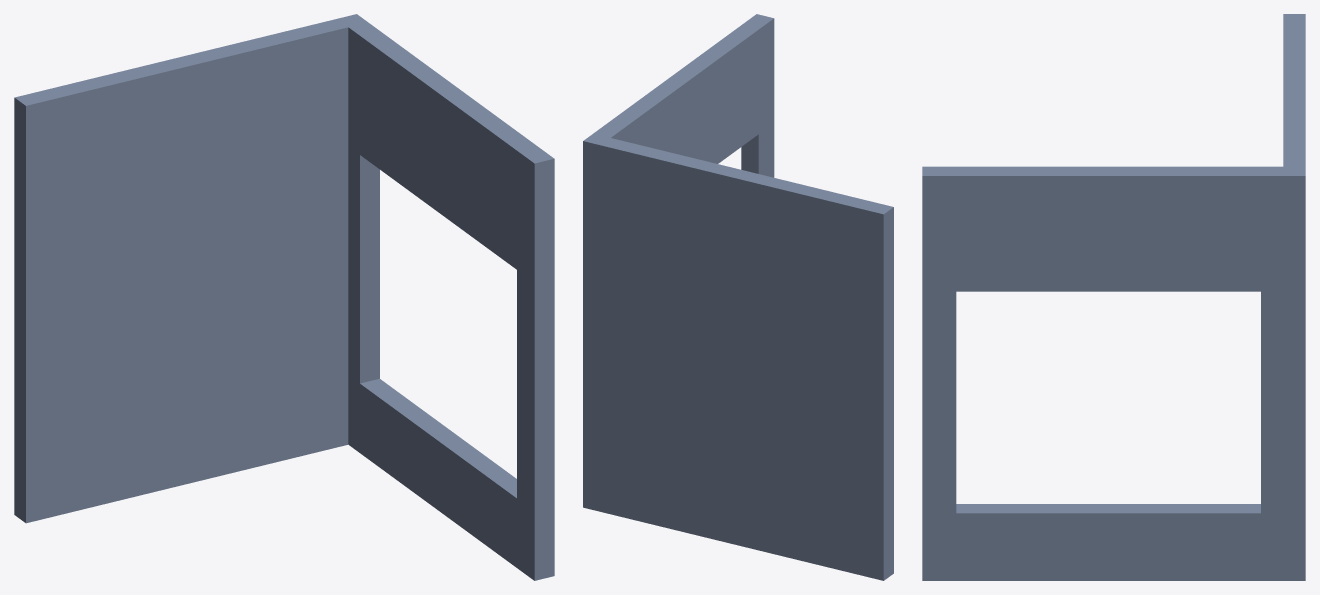
The model's file is Wall3_C1_14.fbx.
The picture shows the model from 3 angles, left to right: view 1: azimuth 30°, elevation 25°; view 2: azimuth 150°, elevation 25°; view 3: azimuth 270°, elevation 25°; orthographic projection. The views are drawn at different scales.
Parts seen in each view (by area): view 1: Wall3_C1_14; view 2: Wall3_C1_14; view 3: Wall3_C1_14.
Part boxes in pixels (box(x1,y1,x2,y2)): Wall3_C1_14: box(14, 14, 554, 580); Wall3_C1_14: box(583, 14, 893, 580); Wall3_C1_14: box(922, 14, 1305, 580).
Size of the model in its own units: 258 by 300 by 258.
